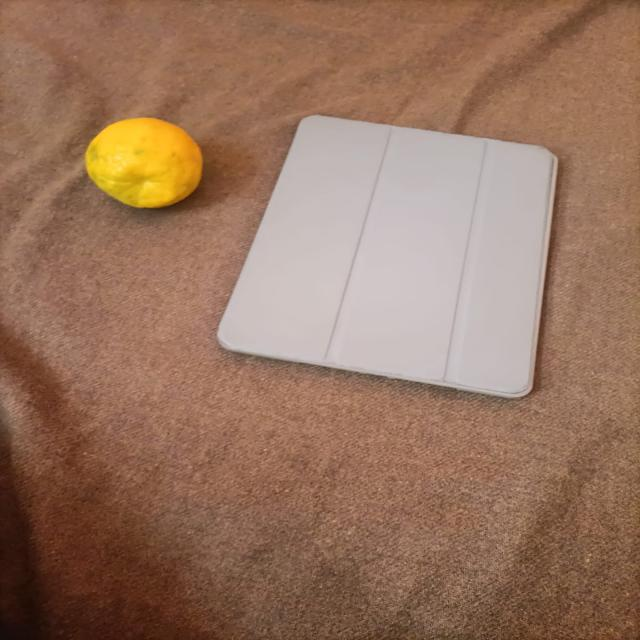orange: (65, 112, 224, 224)
tablet: (202, 66, 583, 419)
